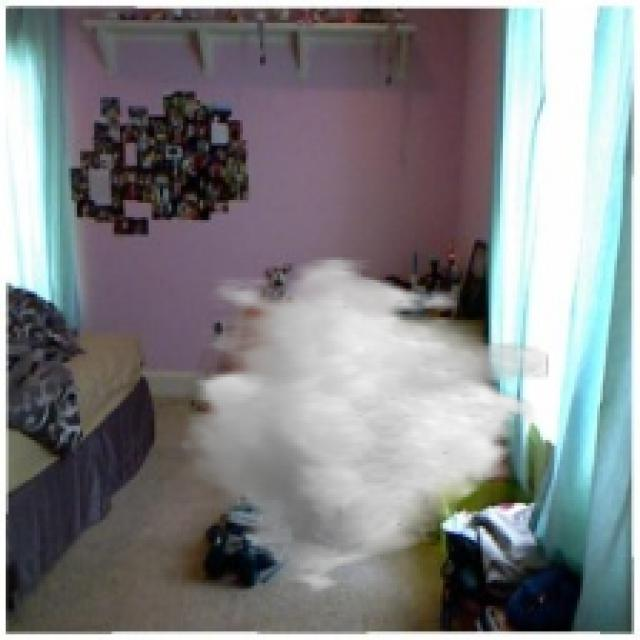smoke: (180, 257, 549, 600)
